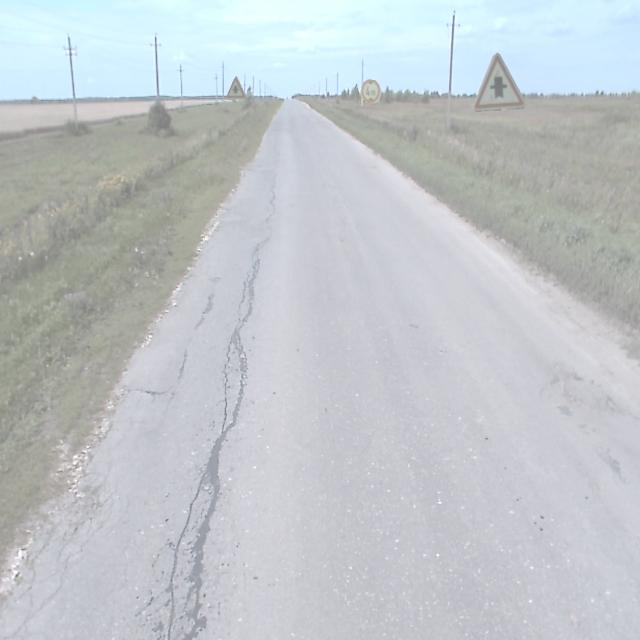road: (0, 98, 639, 639)
